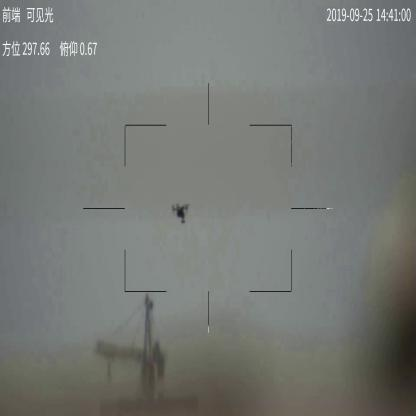uav: (171, 200, 191, 224)
